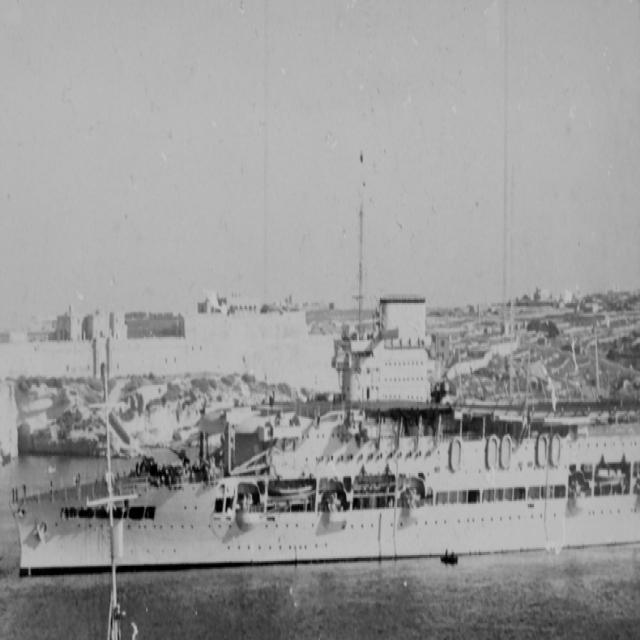Portanaves: (7, 185, 640, 585)
